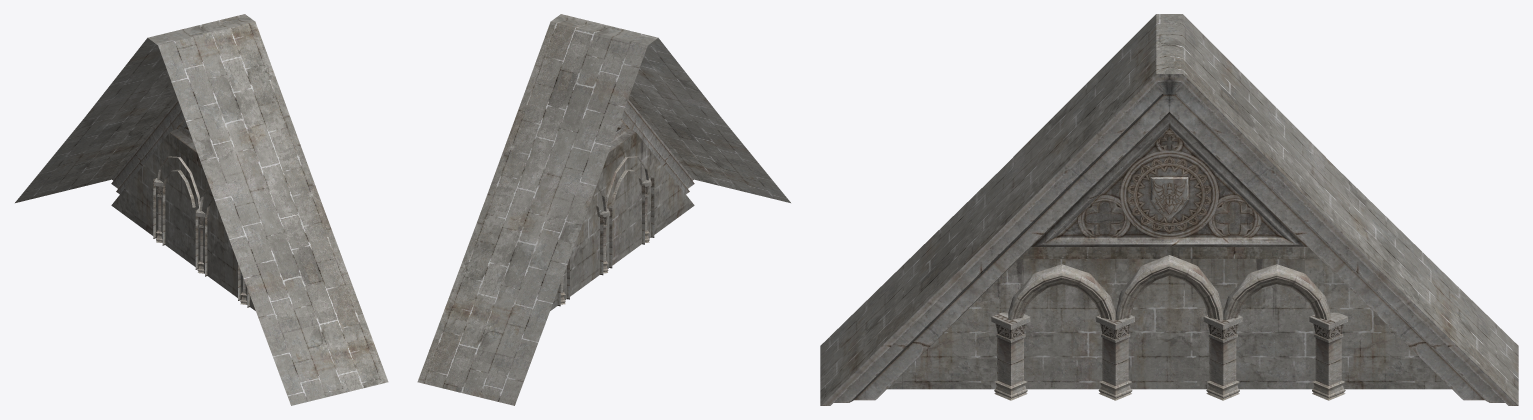
The model's file is bg_lut_lucastle_churchroof01_sm_ksh.FBX.
The picture shows the model from 3 angles, left to right: view 1: azimuth 30°, elevation 25°; view 2: azimuth 150°, elevation 25°; view 3: azimuth 270°, elevation 25°; orthographic projection. The views are drawn at different scales.
Parts seen in each view (by area): view 1: bg_lut_lucastle_churchroof01_sm_ksh; view 2: bg_lut_lucastle_churchroof01_sm_ksh; view 3: bg_lut_lucastle_churchroof01_sm_ksh.
Part boxes in pixels (<box>): bg_lut_lucastle_churchroof01_sm_ksh: <box>15,14,388,405</box>; bg_lut_lucastle_churchroof01_sm_ksh: <box>417,14,790,405</box>; bg_lut_lucastle_churchroof01_sm_ksh: <box>820,14,1518,405</box>.
Size of the model in its own units: 152 by 393 by 749.
